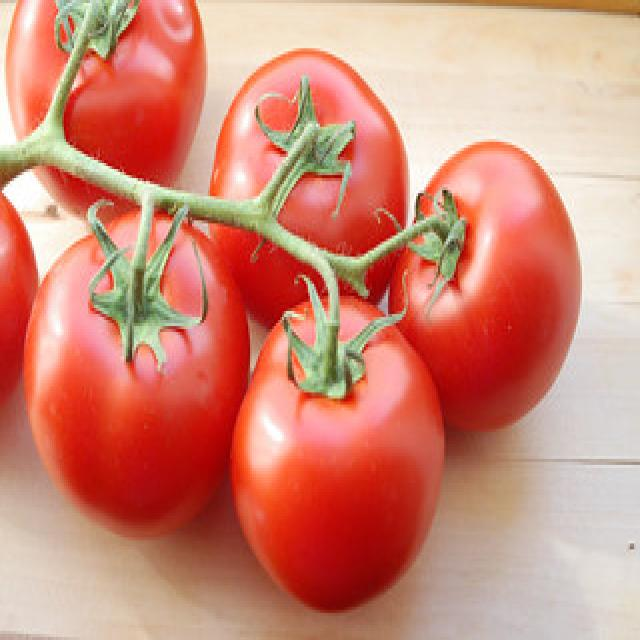Tomato: (22, 203, 250, 545), (227, 288, 449, 620), (381, 132, 588, 440), (206, 35, 415, 326)
